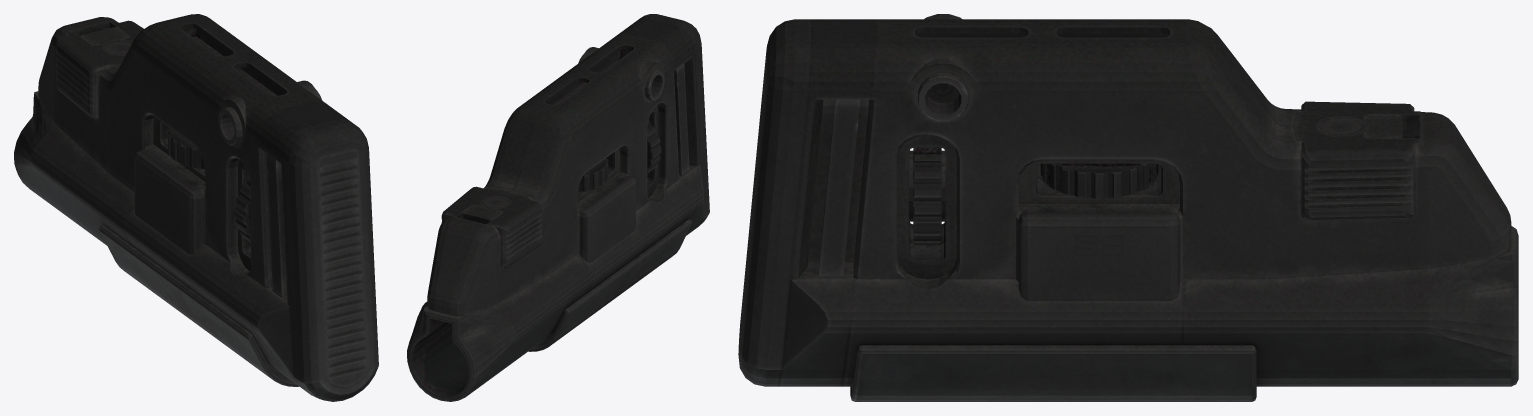
The picture shows the model from 3 angles, left to right: view 1: azimuth 30°, elevation 25°; view 2: azimuth 150°, elevation 25°; view 3: azimuth 270°, elevation 25°; orthographic projection. The views are drawn at different scales.
Parts seen in each view (by area): view 1: TW_5fc2369685fd526b824a5713_PZ_Import; view 2: TW_5fc2369685fd526b824a5713_PZ_Import; view 3: TW_5fc2369685fd526b824a5713_PZ_Import.
Part boxes in pixels (x1=…): TW_5fc2369685fd526b824a5713_PZ_Import: x1=14, y1=14, x2=378, y2=401; TW_5fc2369685fd526b824a5713_PZ_Import: x1=407, y1=14, x2=709, y2=401; TW_5fc2369685fd526b824a5713_PZ_Import: x1=738, y1=14, x2=1518, y2=401.
Bounding box in the file's own units: 0.0284 × 0.1272 × 0.0653.
Materials: 1 (1 with a texture image).
